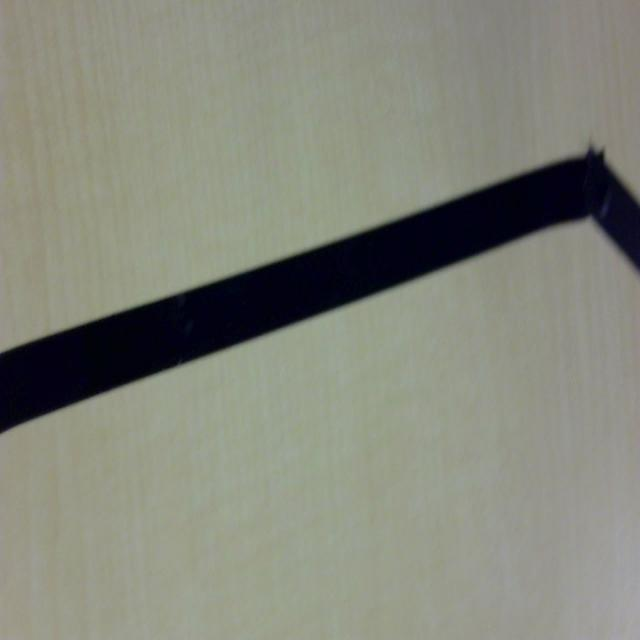tape: (0, 150, 640, 438)
